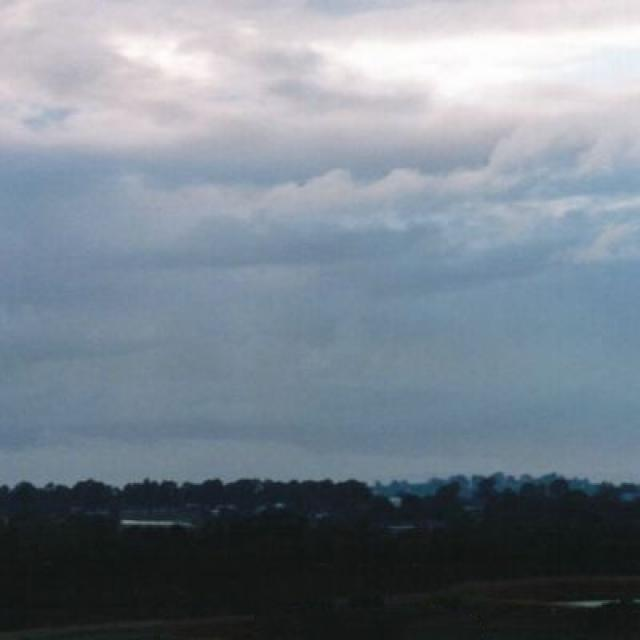Sc: (20, 9, 640, 400)
